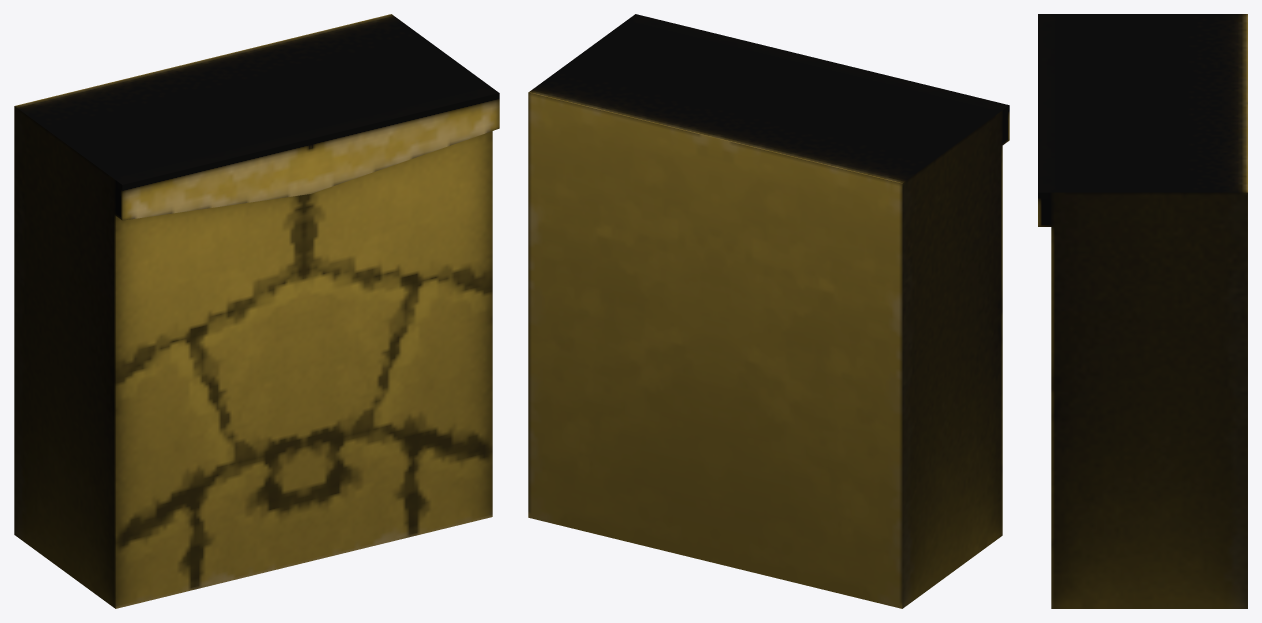
The model's file is Puerta_ok.fbx.
The picture shows the model from 3 angles, left to right: view 1: azimuth 30°, elevation 25°; view 2: azimuth 150°, elevation 25°; view 3: azimuth 270°, elevation 25°; orthographic projection. The views are drawn at different scales.
Visible parts, largest first — view 1: Cube.004; view 2: Cube.004; view 3: Cube.004.
Part boxes in pixels (left/top/right/bottom): Cube.004: left=14, top=14, right=499, bottom=608; Cube.004: left=528, top=14, right=1009, bottom=608; Cube.004: left=1038, top=14, right=1247, bottom=608.
Bounding box in the file's own units: 132 × 144 × 65.7.
